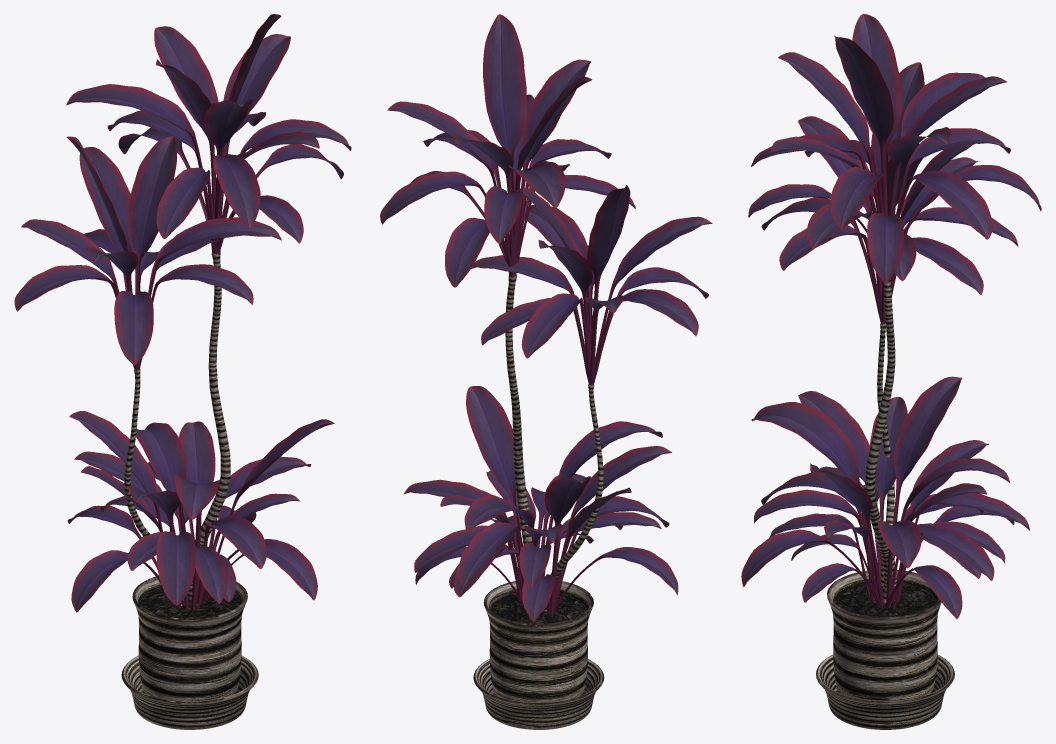
The model's file is flower3d.obj.
3 renders of one model, left to right at view 1: azimuth 30°, elevation 25°; view 2: azimuth 150°, elevation 25°; view 3: azimuth 270°, elevation 25°, orthographic. The views are drawn at different scales.
Visible parts, largest first — view 1: cgaxis_plants_13_01, cgaxis_plants_13_04, cgaxis_plants_13_02, cgaxis_plants_13_03; view 2: cgaxis_plants_13_01, cgaxis_plants_13_04, cgaxis_plants_13_02, cgaxis_plants_13_03; view 3: cgaxis_plants_13_01, cgaxis_plants_13_04, cgaxis_plants_13_02, cgaxis_plants_13_03.
Part boxes in pixels (left/top/right/bottom): cgaxis_plants_13_01: left=14, top=14, right=351, bottom=612; cgaxis_plants_13_04: left=121, top=576, right=258, bottom=729; cgaxis_plants_13_02: left=124, top=253, right=230, bottom=605; cgaxis_plants_13_03: left=139, top=587, right=240, bottom=618; cgaxis_plants_13_01: left=380, top=14, right=712, bottom=621; cgaxis_plants_13_04: left=473, top=581, right=604, bottom=729; cgaxis_plants_13_02: left=505, top=275, right=603, bottom=611; cgaxis_plants_13_03: left=490, top=592, right=587, bottom=623; cgaxis_plants_13_01: left=741, top=14, right=1041, bottom=618; cgaxis_plants_13_04: left=816, top=570, right=954, bottom=729; cgaxis_plants_13_02: left=864, top=279, right=896, bottom=603; cgaxis_plants_13_03: left=834, top=582, right=936, bottom=616.
Size of the model in its own units: 18.91 by 39.2 by 15.15.
Materials: 4 (4 with a texture image).
